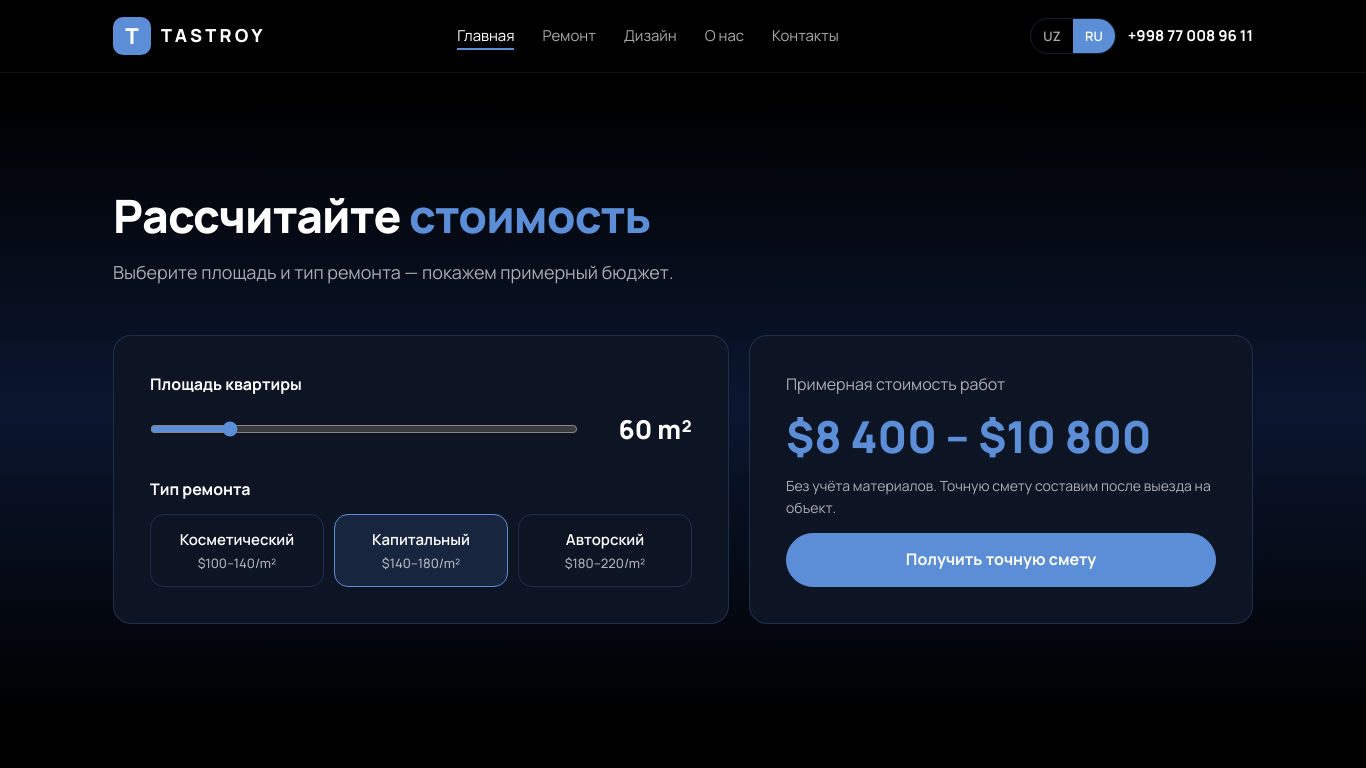
Test: калькулятор считает стоимость по площади и типу ремонта
(page scrolled)
Expected: the text "$8 400 – $10 800" is shown, [786,411,1216,461]
Set the slider labelled "Площадь квартиры" to "100" at (301, 429), box [150,421,578,437]
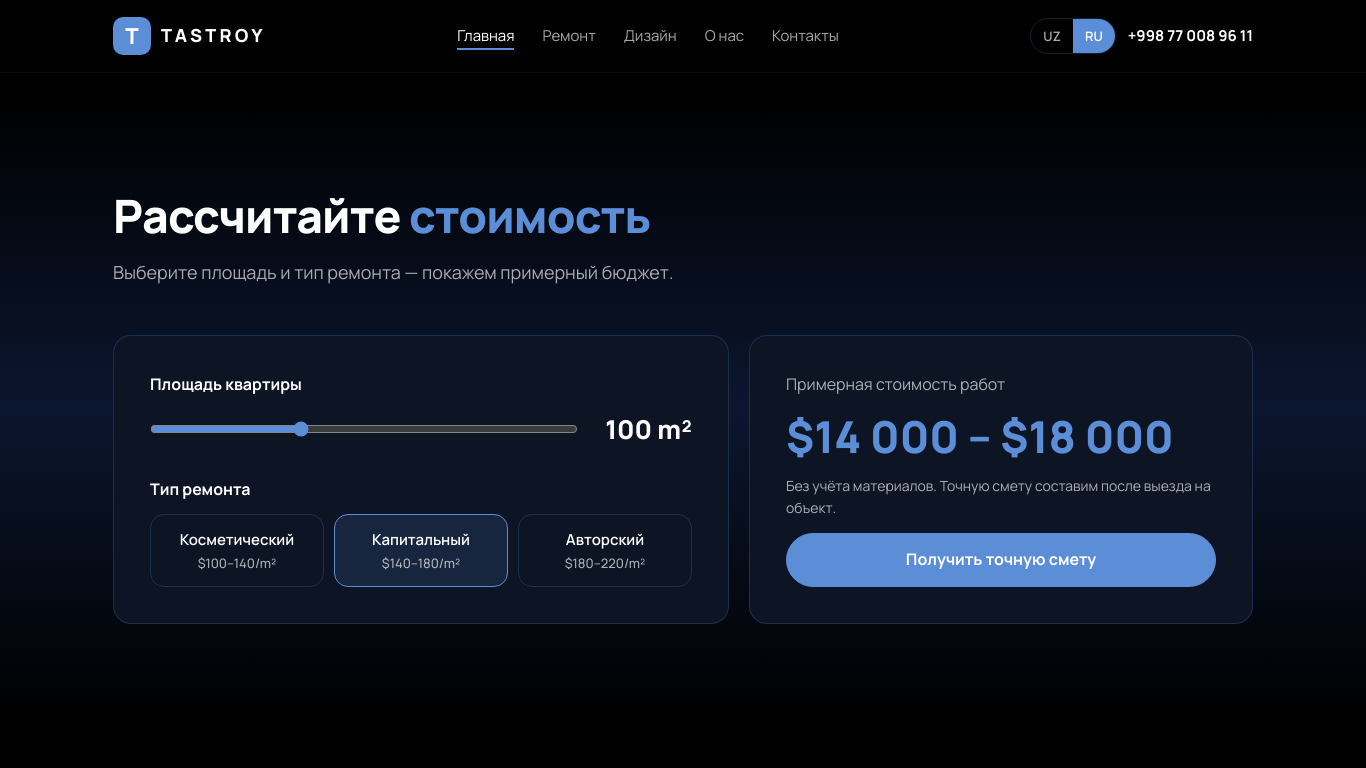
Click the button "Косметический $100–140/m²" at (237, 550), box [150,514,324,587]
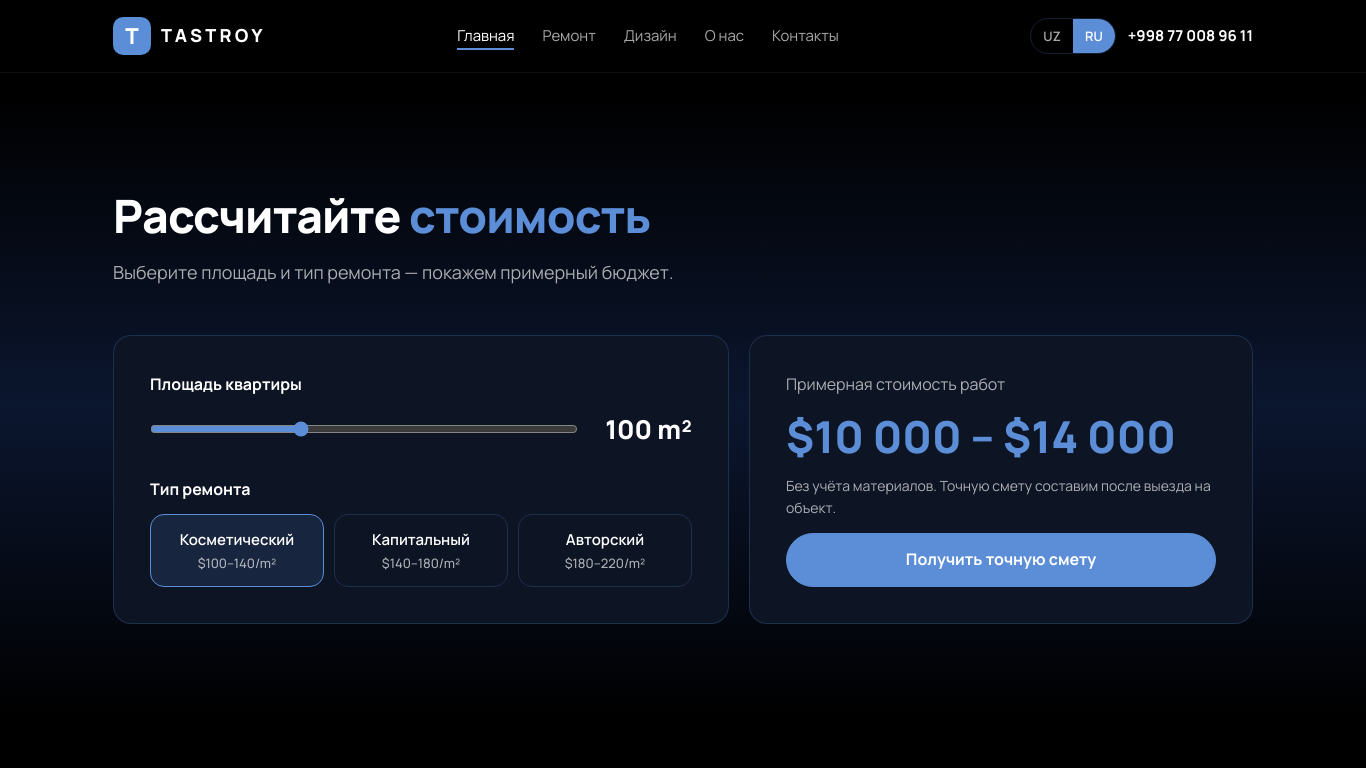
Expected: the text "$10 000 – $14 000" is shown, [786,411,1216,461]
